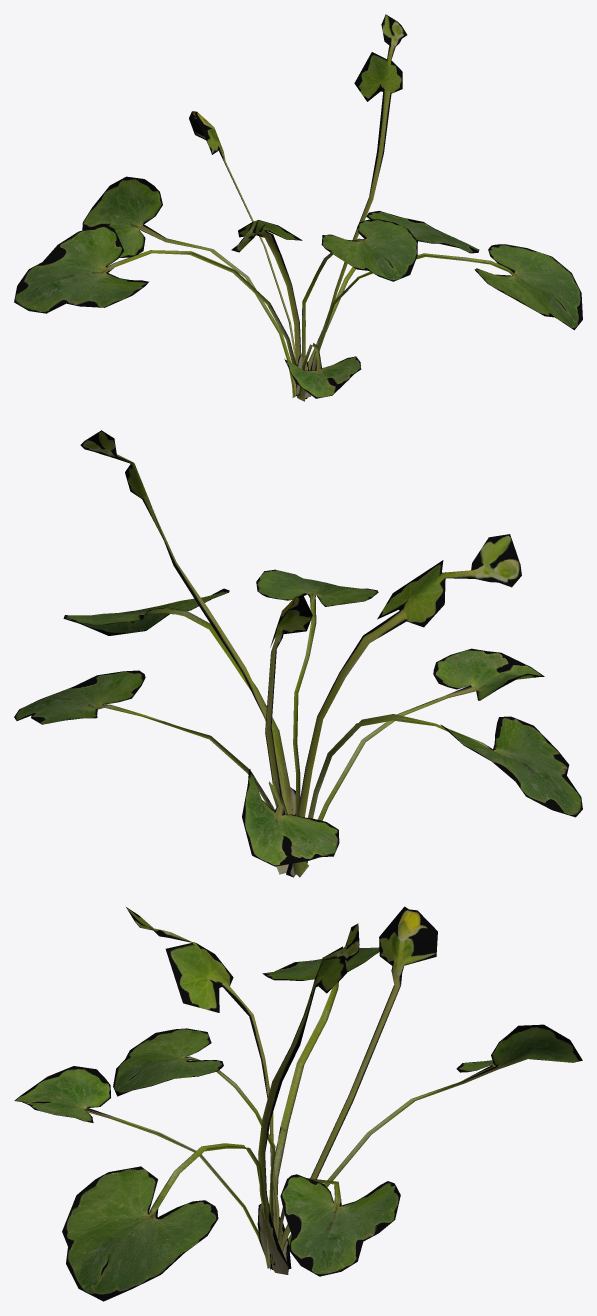
The model's file is celandine_01_0.gltf.
3 views of the same model, one above another, from view 1: azimuth 30°, elevation 25°; view 2: azimuth 150°, elevation 25°; view 3: azimuth 270°, elevation 25° (orthographic). The views are drawn at different scales.
Parts seen in each view (by area): view 1: celandine_01_a_LOD0; view 2: celandine_01_a_LOD0; view 3: celandine_01_a_LOD0.
Boxes of the visible parts, x1,y1,x2,y2 form: celandine_01_a_LOD0: (14,14,582,401); celandine_01_a_LOD0: (14,430,582,877); celandine_01_a_LOD0: (14,906,582,1301).
Size of the model in its own units: 0.2757 by 0.1859 by 0.2282.
1 material, 1 textured.
